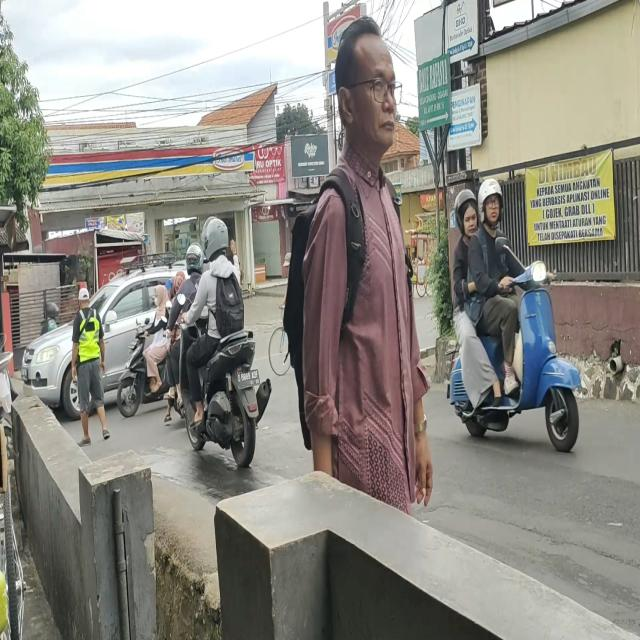helmet: (202, 212, 230, 260), (478, 178, 502, 224), (455, 191, 478, 234), (183, 240, 203, 278)
no-helmet: (151, 285, 170, 309)
